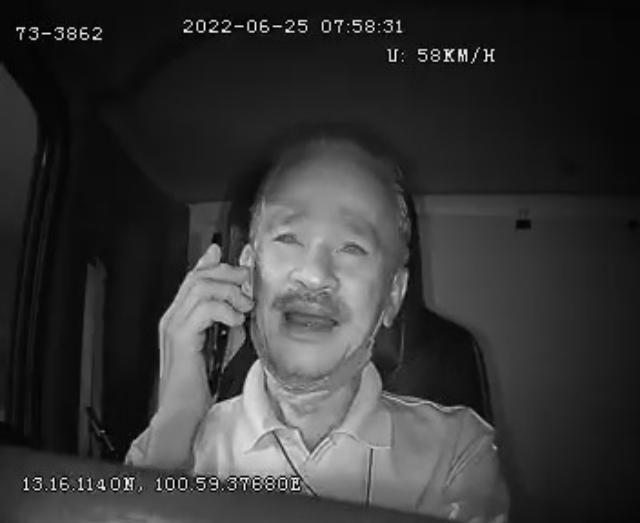PhoneUse: (199, 228, 235, 400)
SafeDriving: (264, 215, 310, 255), (330, 226, 375, 266)
